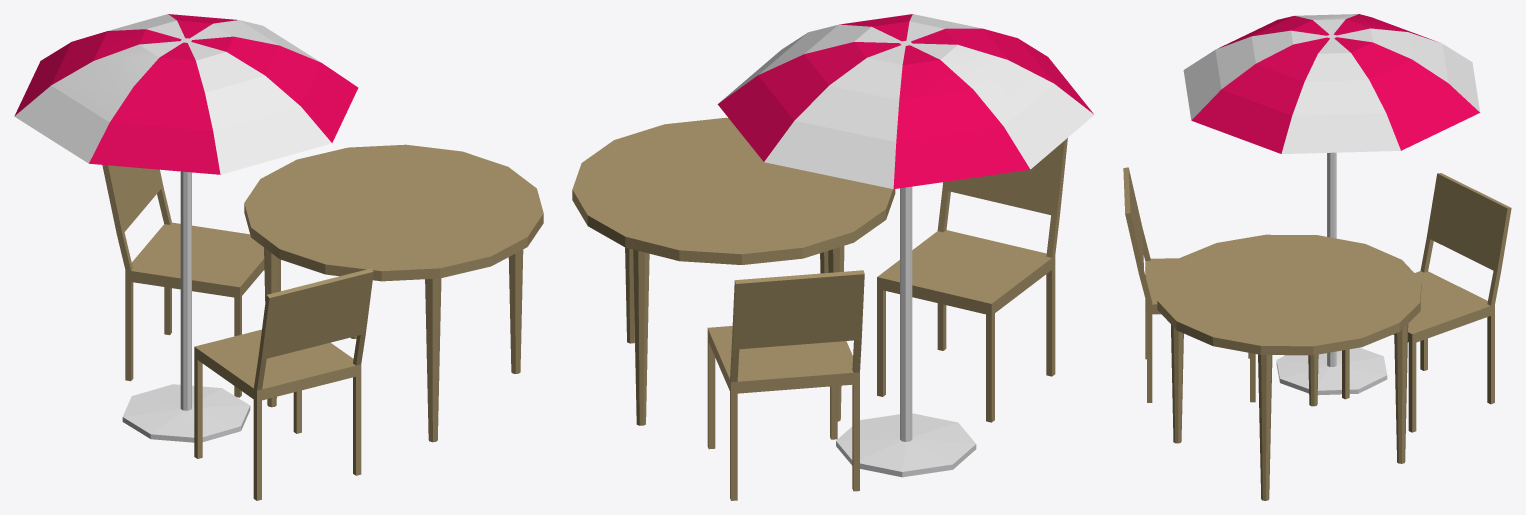
The model's file is xTraUrgent Various.glb.
3 views of the same model, side by side, from view 1: azimuth 30°, elevation 25°; view 2: azimuth 150°, elevation 25°; view 3: azimuth 270°, elevation 25° (orthographic). The views are drawn at different scales.
Parts seen in each view (by area): view 1: umbrella-rigid, table-rigid, chair-rigid, chair2-rigid; view 2: umbrella-rigid, table-rigid, chair2-rigid, chair-rigid; view 3: umbrella-rigid, table-rigid, chair2-rigid, chair-rigid.
Part boxes in pixels (x1,y1,x2,y2): umbrella-rigid: (14,14,358,442); table-rigid: (244,144,543,442); chair-rigid: (194,268,373,500); chair2-rigid: (102,165,280,397); umbrella-rigid: (717,14,1094,477); table-rigid: (572,117,895,425); chair2-rigid: (707,270,864,500); chair-rigid: (877,138,1067,422); umbrella-rigid: (1183,14,1480,395); table-rigid: (1157,234,1421,500); chair2-rigid: (1342,173,1511,432); chair-rigid: (1123,167,1255,402).
Size of the model in its own units: 2.7 by 2.13 by 2.23.
